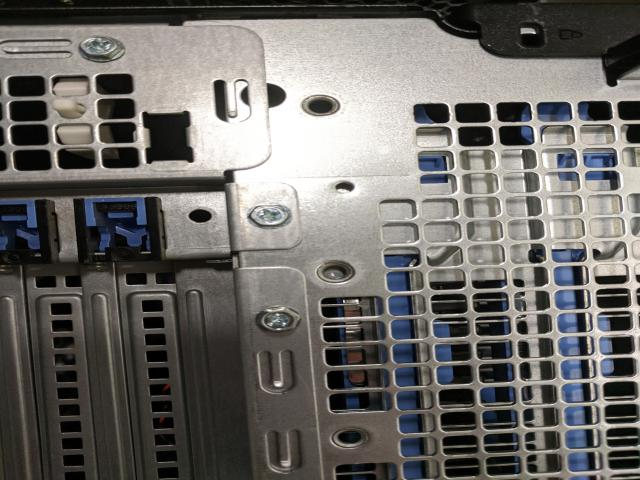CRS: (76, 36, 130, 61), (246, 203, 294, 226), (258, 306, 300, 332)
